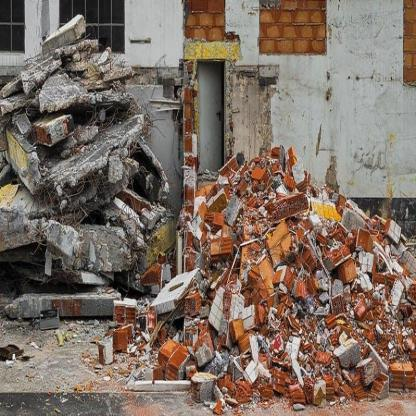brick: (0, 2, 415, 413)
